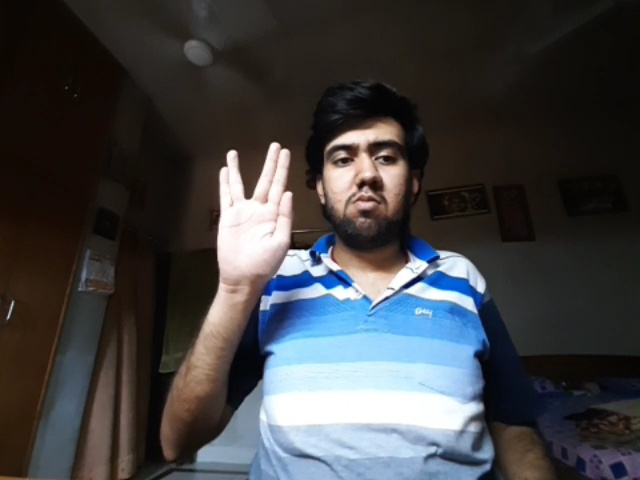LiveLong: (217, 141, 293, 280)
